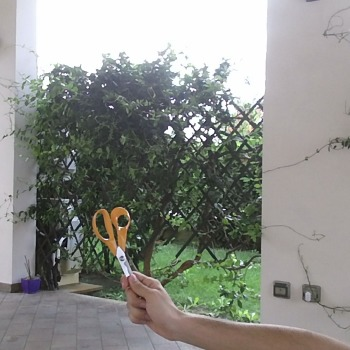hand: (129, 274, 348, 350)
